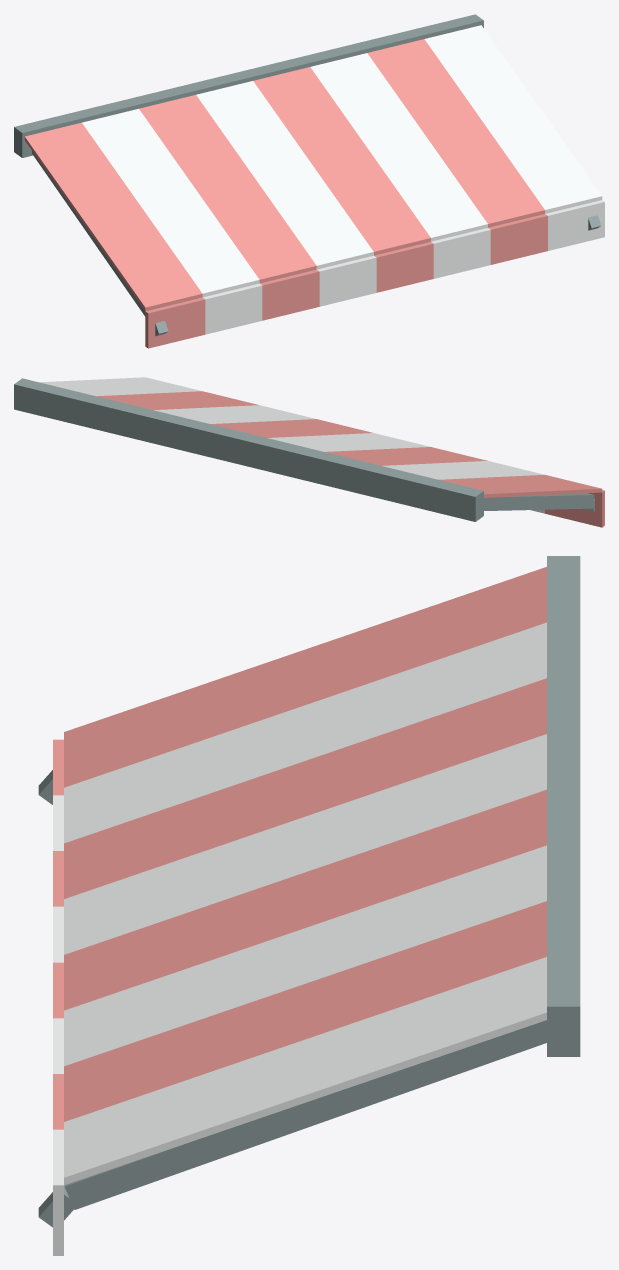
Rendered from gardenAwning.glb.
3 views of the same model, one above another, from view 1: azimuth 30°, elevation 25°; view 2: azimuth 150°, elevation 25°; view 3: azimuth 270°, elevation 25° (orthographic). The views are drawn at different scales.
Parts seen in each view (by area): view 1: gardenAwning; view 2: gardenAwning; view 3: gardenAwning.
Part boxes in pixels (x1,y1,x2,y2): gardenAwning: (14, 14, 604, 348); gardenAwning: (14, 377, 604, 527); gardenAwning: (38, 556, 580, 1255).
Bounding box in the file's own units: 0.96 × 0.25 × 0.4878.
